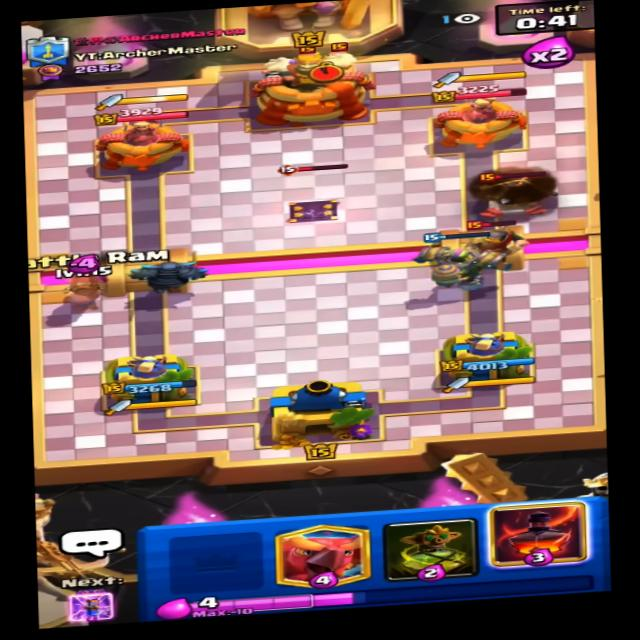evo-tesla-closed: (265, 158, 357, 227)
knight: (455, 213, 529, 259)
x-bow: (460, 163, 563, 225)
